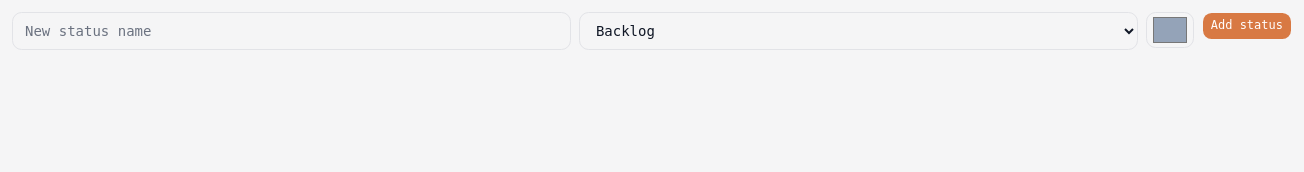
Test case: create status form › shows an error when the status is rejected
This screenshot has width=1304, height=172.
In the field labelled "New status name": (291, 31) [12,12,571,50], type "Backlog"
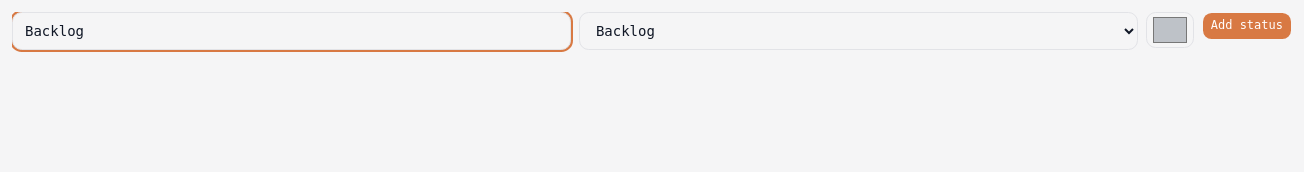
Click the button "Add status": (1247, 26) [1202,12,1292,40]
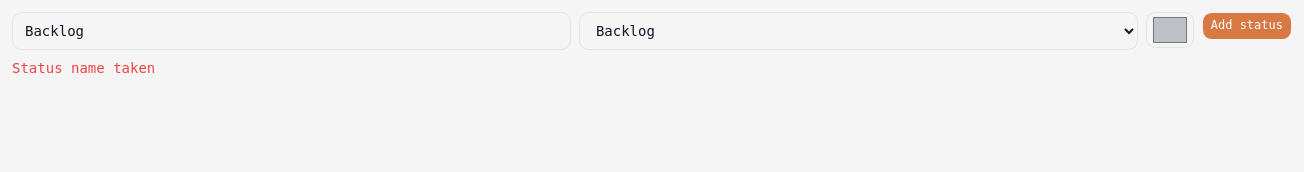
Expected: the text "Status name taken" is shown, [12,60,155,76]
